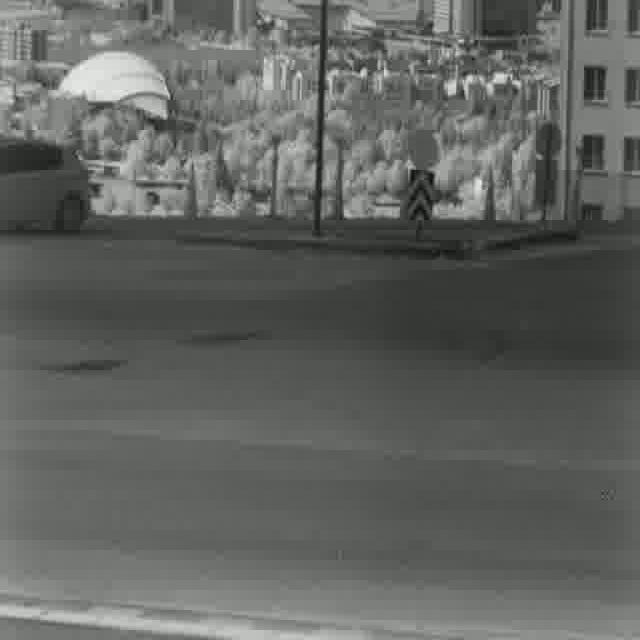Car: (0, 135, 88, 233)
